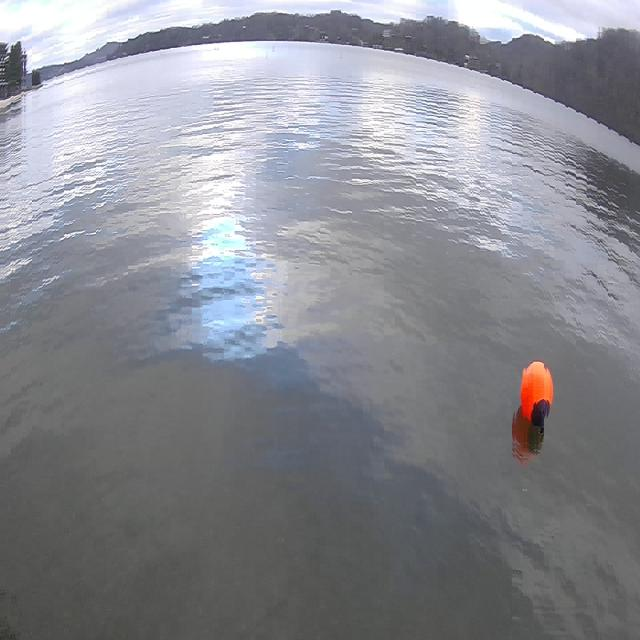Buoy: (516, 354, 560, 434)
